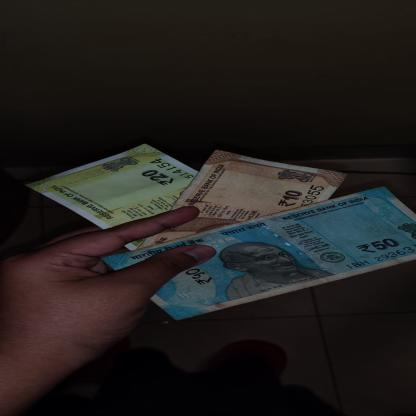New10Front: (136, 149, 349, 249)
New20Front: (24, 143, 200, 251)
New50Front: (99, 186, 416, 323)
